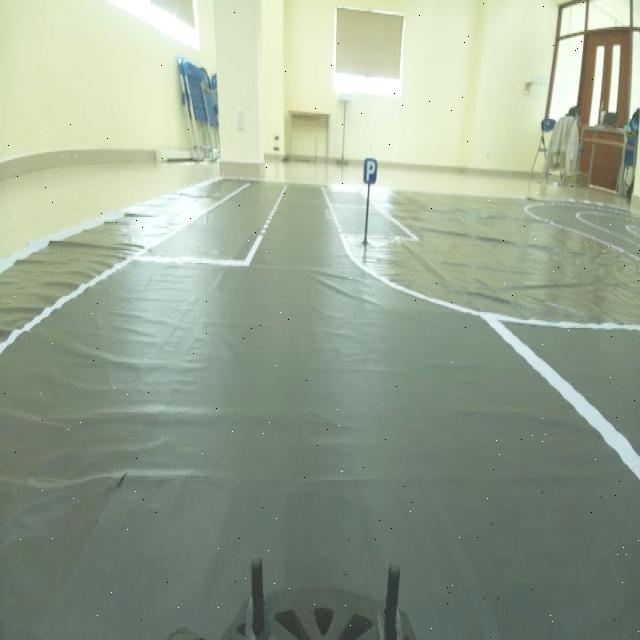parking: (361, 144, 384, 190)
